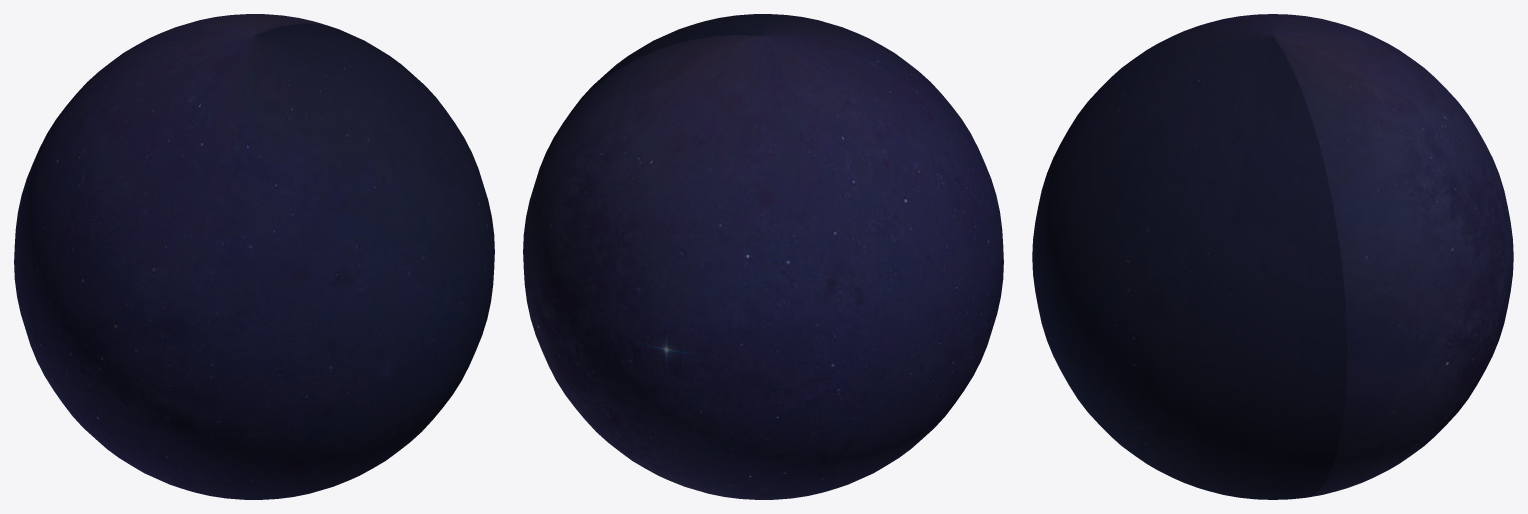
Rendered from qiu.fbx.
The picture shows the model from 3 angles, left to right: view 1: azimuth 30°, elevation 25°; view 2: azimuth 150°, elevation 25°; view 3: azimuth 270°, elevation 25°; orthographic projection.
Visible parts, largest first — view 1: pSphere1; view 2: pSphere1; view 3: pSphere1.
Boxes of the visible parts, x1,y1,x2,y2 form: pSphere1: (14,14,494,499); pSphere1: (523,14,1003,499); pSphere1: (1032,14,1513,499).
Bounding box in the file's own units: 1969 × 1998 × 1969.
Materials: 1 (1 with a texture image).
